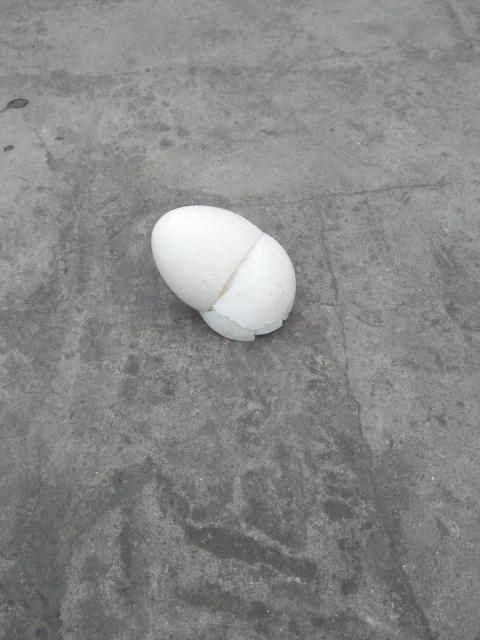Roto: (150, 204, 296, 342)
